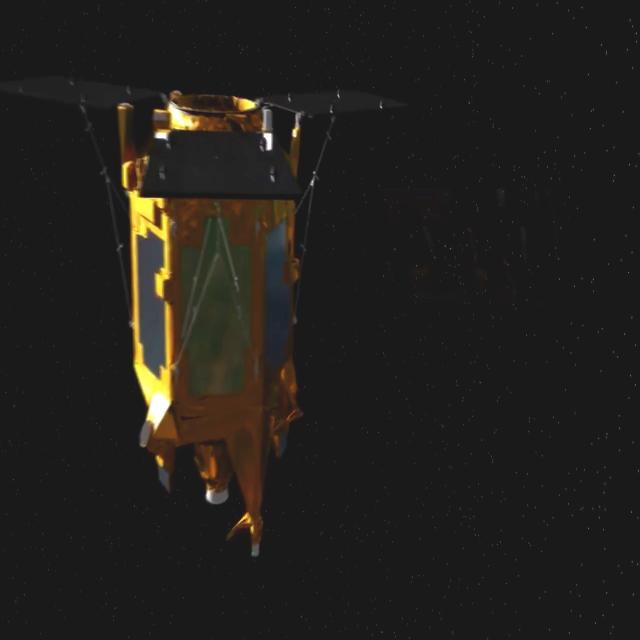satellite: (73, 0, 350, 603)
